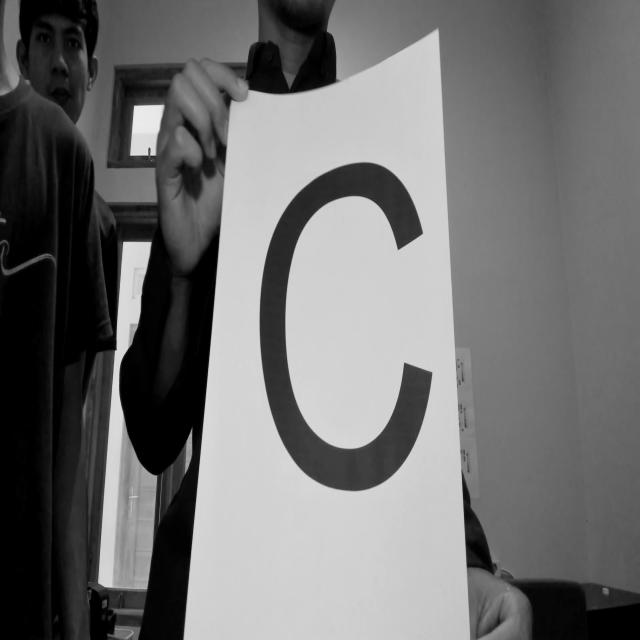c: (243, 131, 449, 516)
